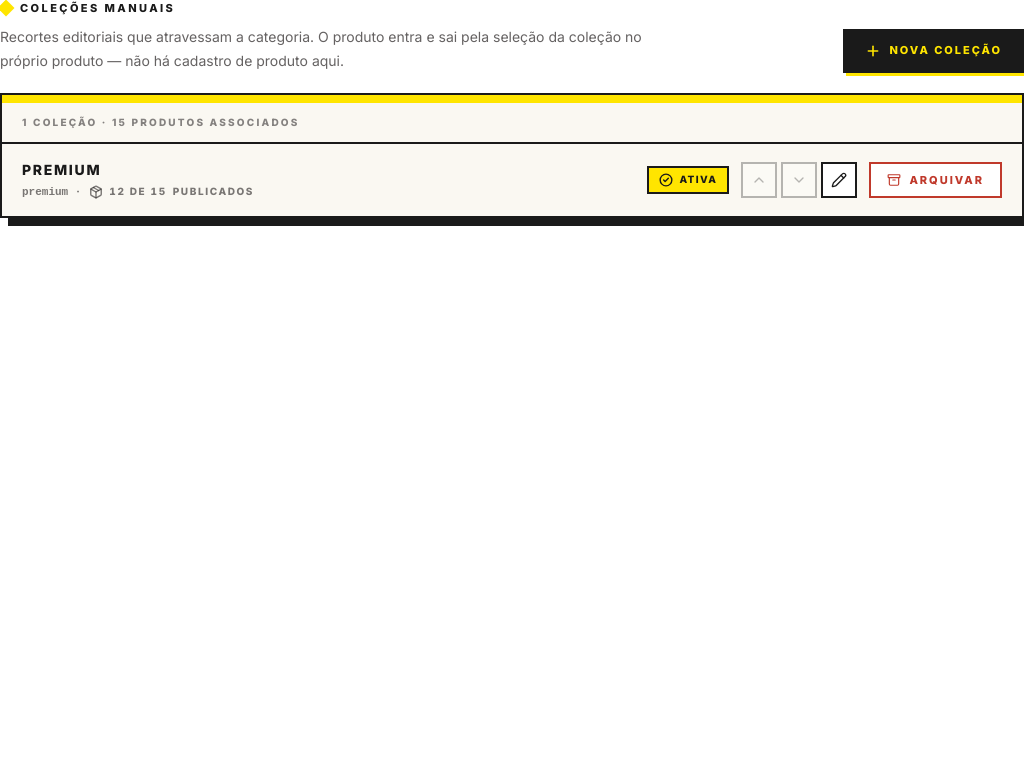
Test case: CuratedCollectionsPanel › trava o identificador quando a coleção já tem produtos
The image size is (1024, 768).
Click the button named "editar premium". click: click(839, 180)
box: [821,162,857,198]
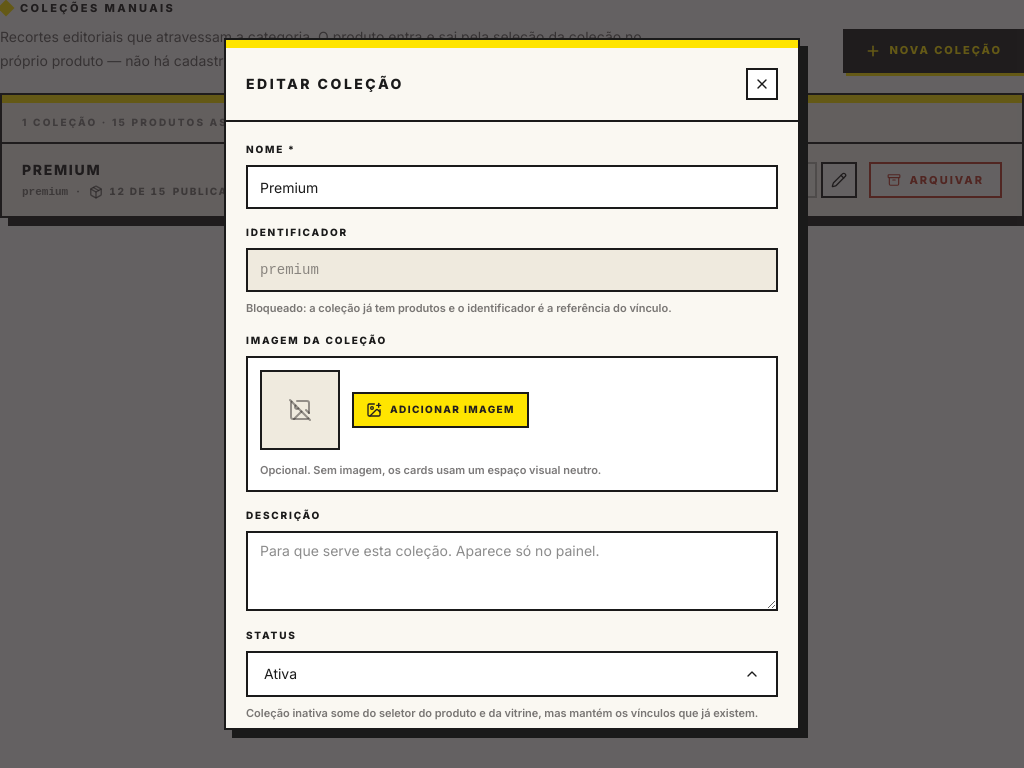
Expected: the field labelled "Identificador" is disabled, [246,248,778,292]
Expected: the text "a coleção já tem produtos" is shown, [246,301,672,315]
